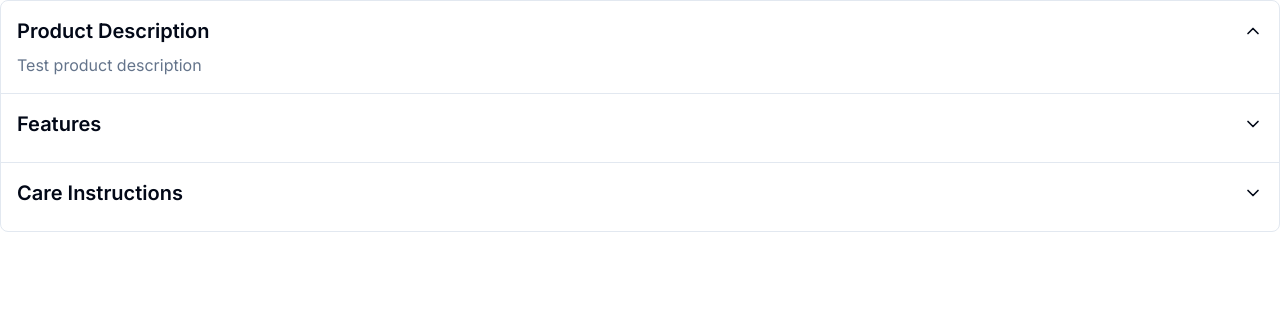
Test case: ProductDescription › maintains proper ARIA attributes for accessibility
// Toggle features section
Click the button "Features": (59, 124) [17,110,1263,138]
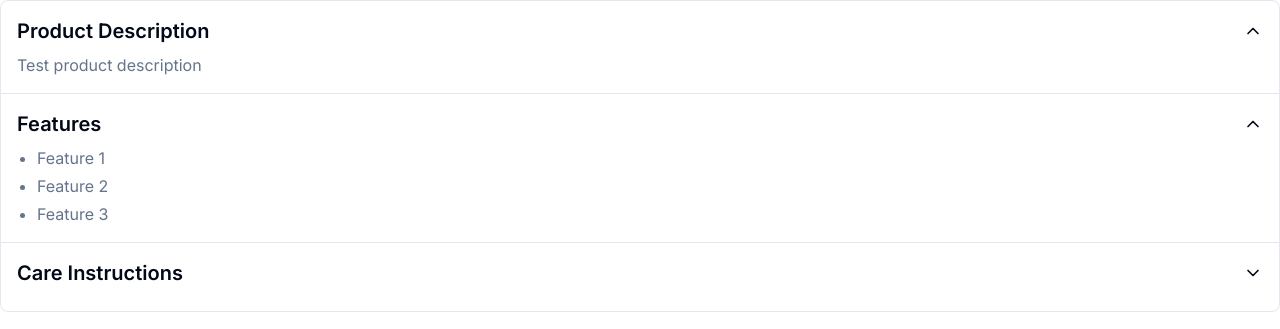
Now the button "Features" is expanded, box [17,110,1263,138]
